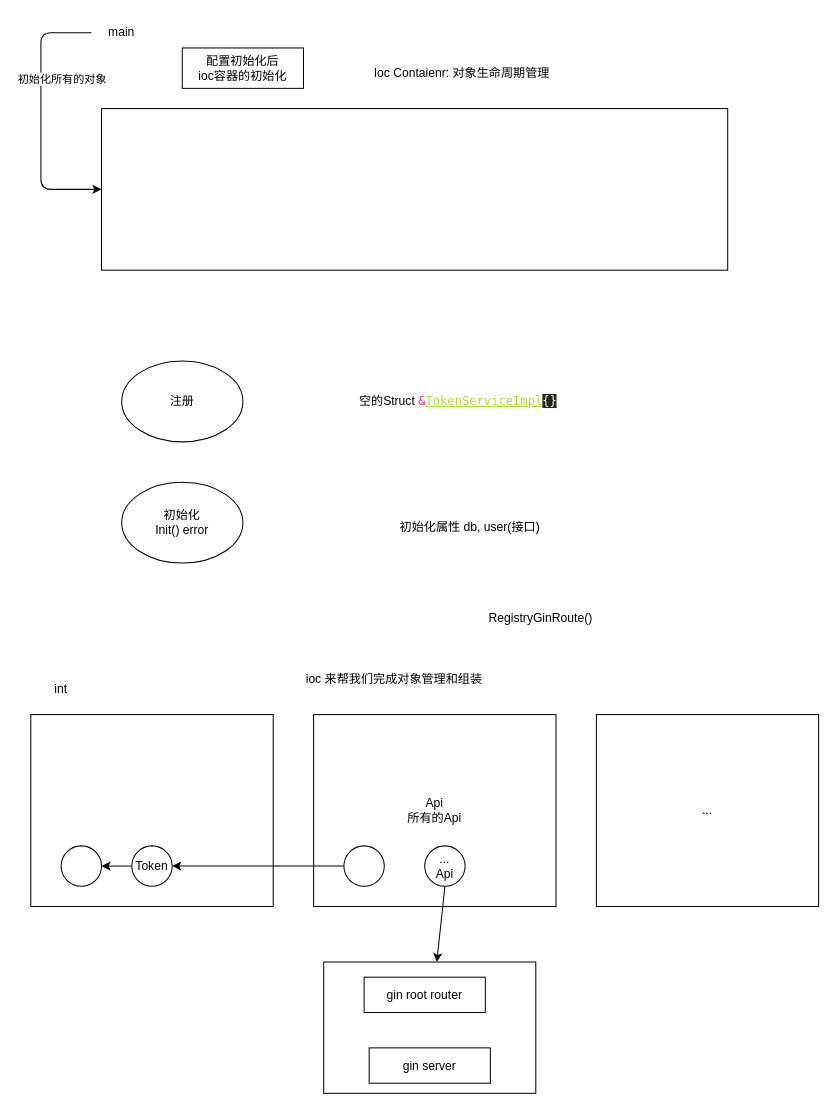
The diagram is 836 pixels wide and 1111 high, and some of its shapes have lost their labels. Each missing label, with the box of its shape:
Applicaiton: (323, 961, 536, 1093)
Controller 业务实现: (30, 714, 273, 906)
Token Api: (343, 845, 384, 886)
User: (60, 845, 102, 886)
